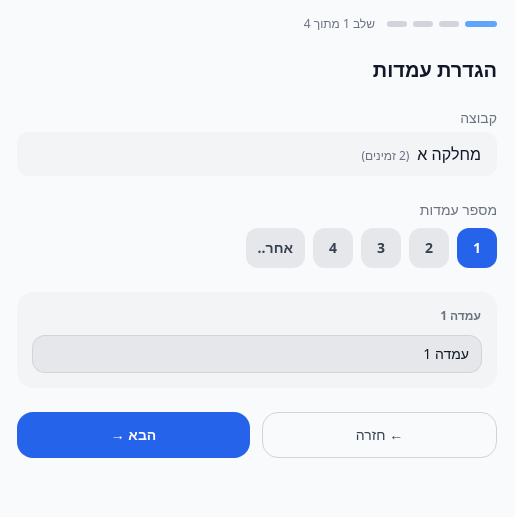
Short-list back navigation fix › clears session when clicking cancel in Step2
Note: Navigate to Step2
Click the button "הבא →". click: (134, 435)
box: [17,412,250,458]
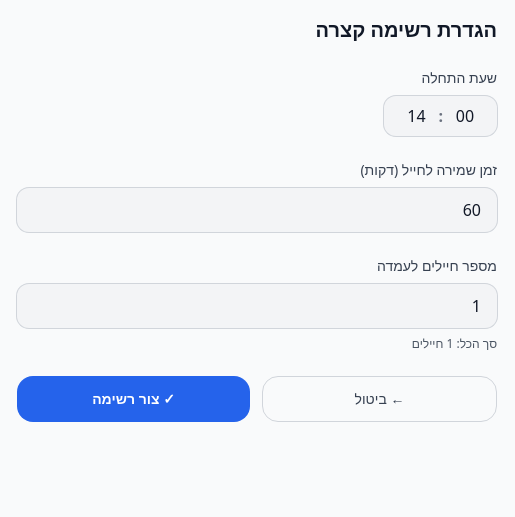
expect the heading "הגדרת רשימה קצרה" is shown: met, box [316,16,497,43]
Note: Click cancel button
Click the button "← ביטול". click: (380, 399)
box: [262,376,497,422]
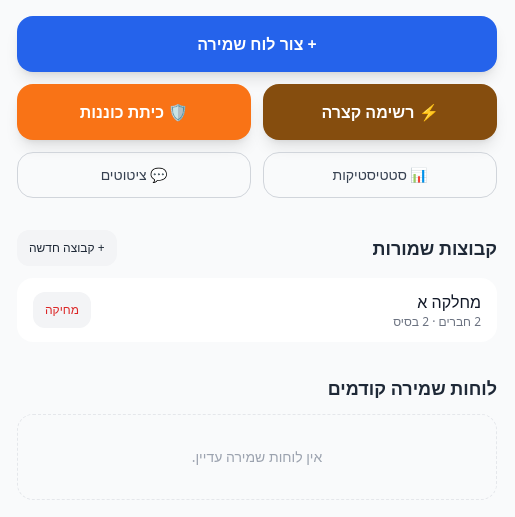
expect the heading "קבוצות שמורות" is shown: met, box [373,234,497,262]
